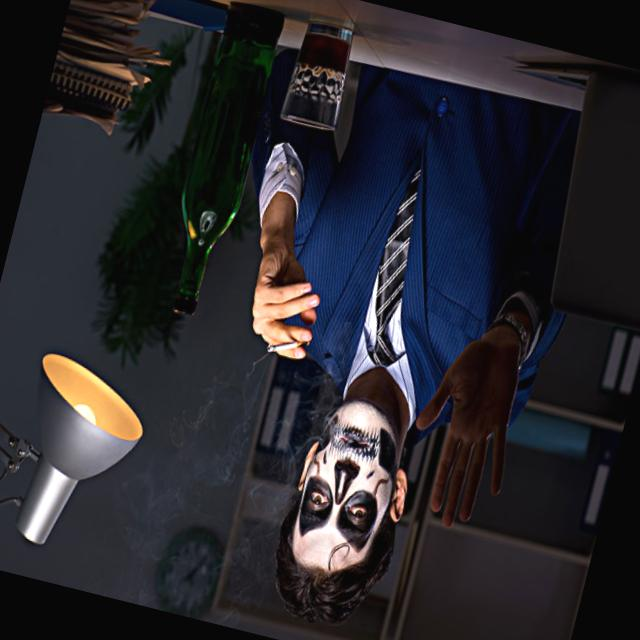cigarette: (264, 328, 314, 364)
